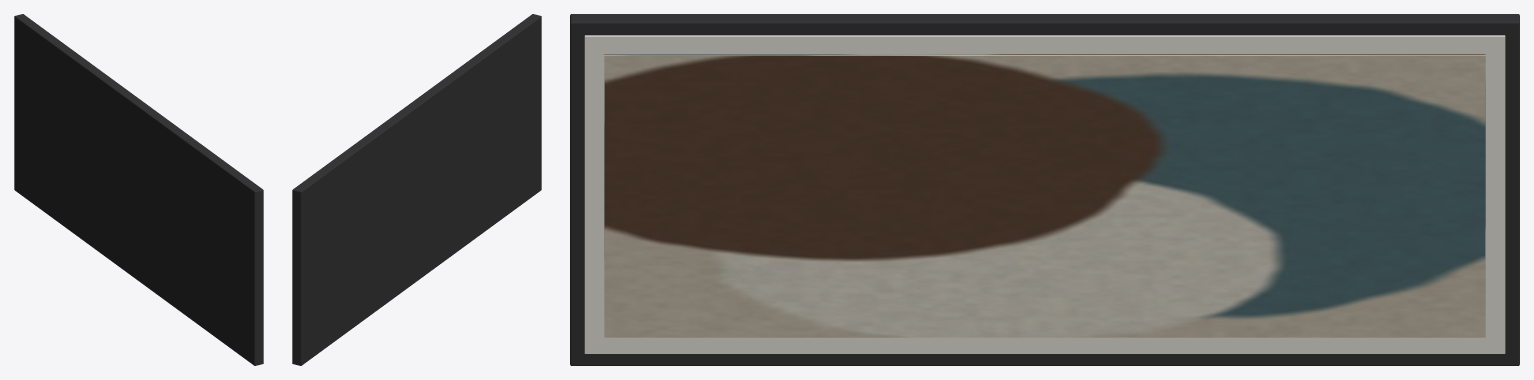
The model's file is master_art_head.glb.
3 views of the same model, side by side, from view 1: azimuth 30°, elevation 25°; view 2: azimuth 150°, elevation 25°; view 3: azimuth 270°, elevation 25° (orthographic). The views are drawn at different scales.
Visible parts, largest first — view 1: master_art_head; view 2: master_art_head; view 3: master_art_head.
Boxes of the visible parts, box(x1,y1,x2,y2) form: master_art_head: box(14, 14, 263, 365); master_art_head: box(292, 14, 541, 365); master_art_head: box(570, 14, 1519, 365).
Bounding box in the file's own units: 0.05 × 0.72 × 1.8.
3 materials, 1 textured.
